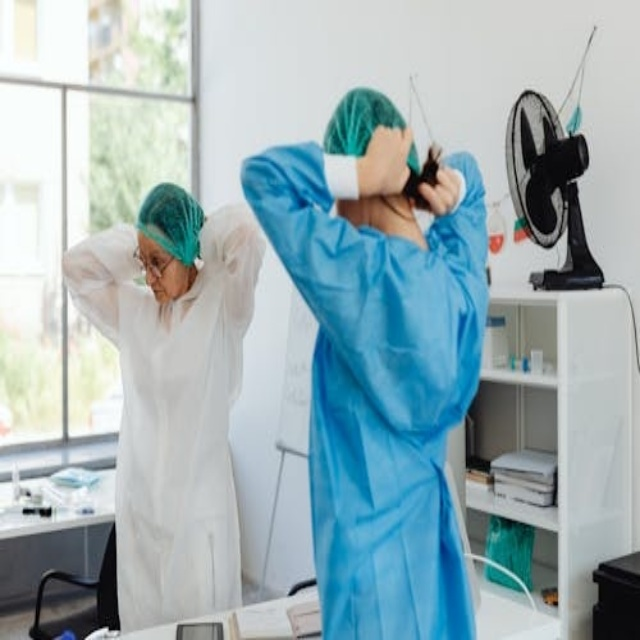Gafas: (134, 244, 176, 280)
Sin_guantes: (409, 145, 465, 220), (357, 119, 408, 198)
Sin_mascara: (146, 283, 172, 308)
